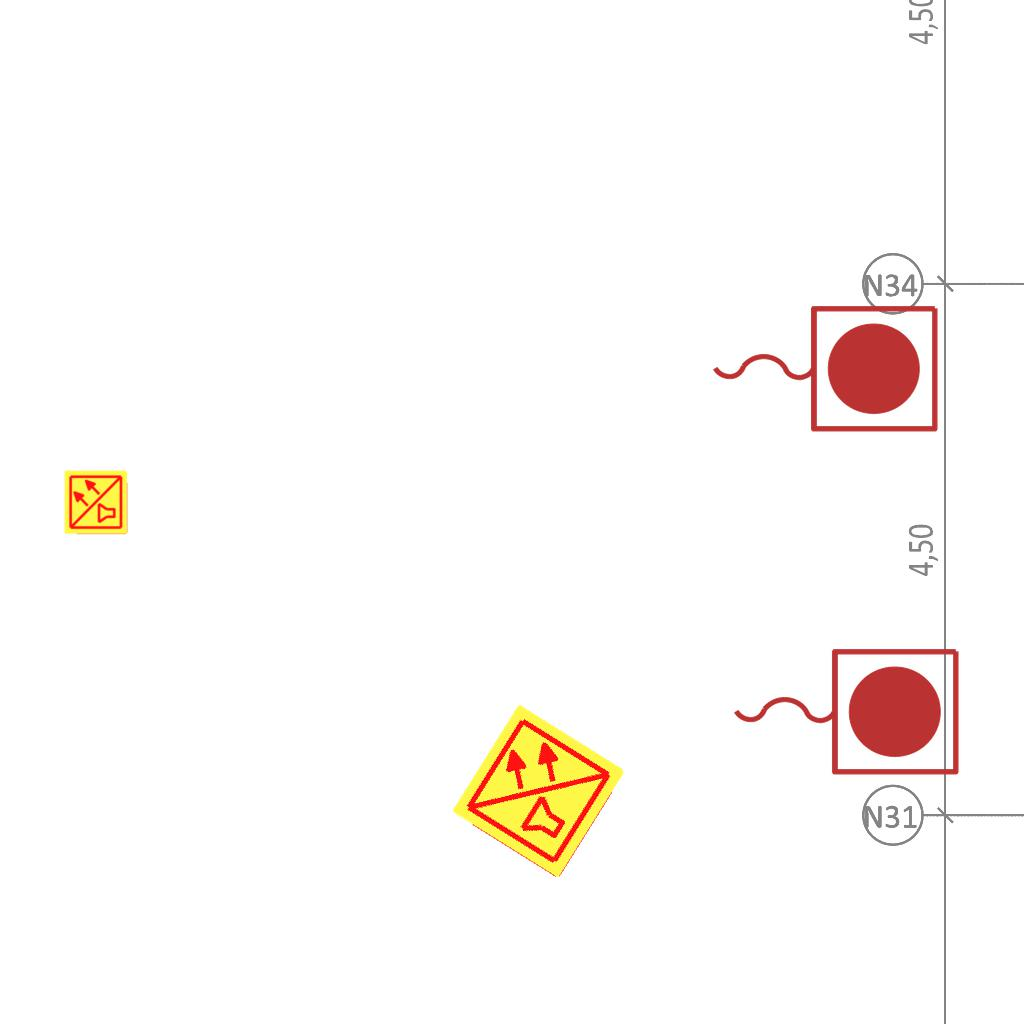OKW_Multisensormelder_(Kombination_optischer_Rauch-Kahlenmonoxid_Waerme-Melder): (448, 700, 630, 882), (63, 469, 129, 535)
Zugtaster: (723, 638, 967, 782), (702, 295, 946, 439)
